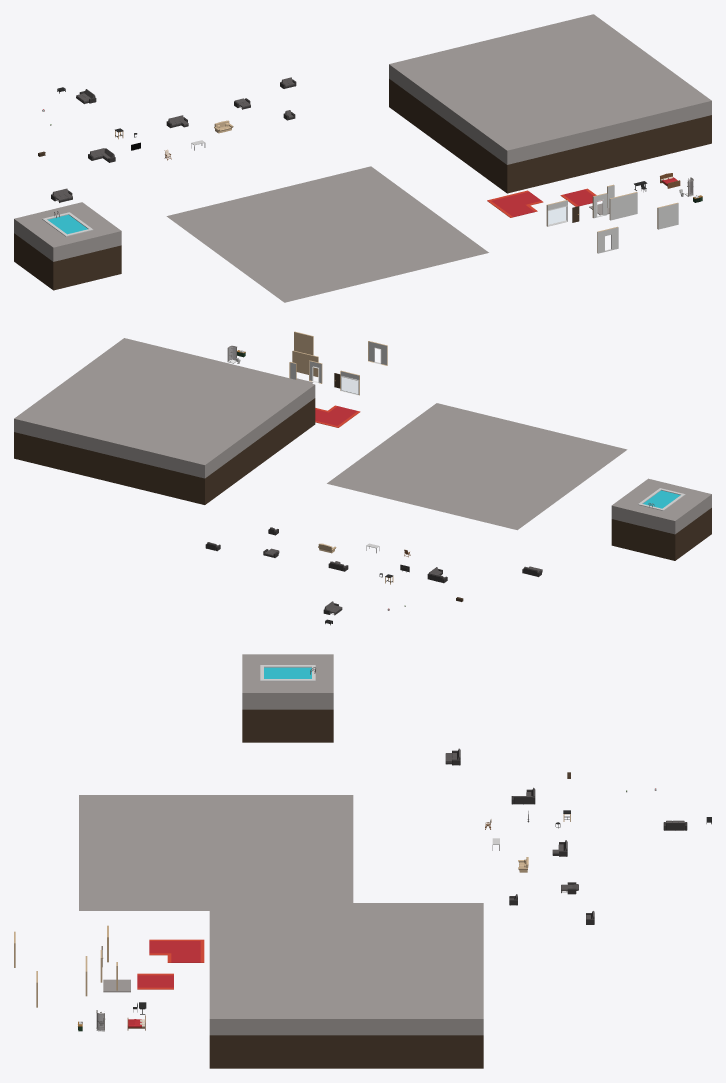
File: staticmesh_environment_all.gltf
3 views of the same model, one above another, from view 1: azimuth 30°, elevation 25°; view 2: azimuth 150°, elevation 25°; view 3: azimuth 270°, elevation 25° (orthographic). The views are drawn at different scales.
Parts seen in each view (by area): view 1: tile-plain_concrete-col, tile-plain_concrete-nb-col, tile-pool-small-col, carpet-corner-col, house-wall-4x3m-col, house-wall-3x3m, house-wall-window-portal-3x3m; view 2: tile-plain_concrete-col, tile-plain_concrete-nb-col, tile-pool-small-col, carpet-corner-col; view 3: tile-plain_concrete-col, tile-plain_concrete-nb-col, tile-pool-small-col, carpet-corner-col.
Boxes of the visible parts, x1,y1,x2,y2 form: tile-plain_concrete-col: (389, 14, 711, 193); tile-plain_concrete-nb-col: (166, 166, 488, 302); tile-pool-small-col: (14, 202, 121, 290); carpet-corner-col: (487, 190, 543, 217); house-wall-4x3m-col: (609, 192, 637, 220); house-wall-3x3m: (657, 202, 678, 229); house-wall-window-portal-3x3m: (546, 200, 567, 226); tile-plain_concrete-col: (14, 338, 315, 504); tile-plain_concrete-nb-col: (327, 403, 627, 530); tile-pool-small-col: (611, 478, 711, 560); carpet-corner-col: (315, 405, 360, 427); tile-plain_concrete-col: (209, 903, 483, 1068); tile-plain_concrete-nb-col: (79, 795, 353, 910); tile-pool-small-col: (242, 654, 333, 742); carpet-corner-col: (149, 939, 204, 962).
Bounding box in the file's own units: 94.38 × 6.78 × 76.38.
20 materials, 5 textured.
